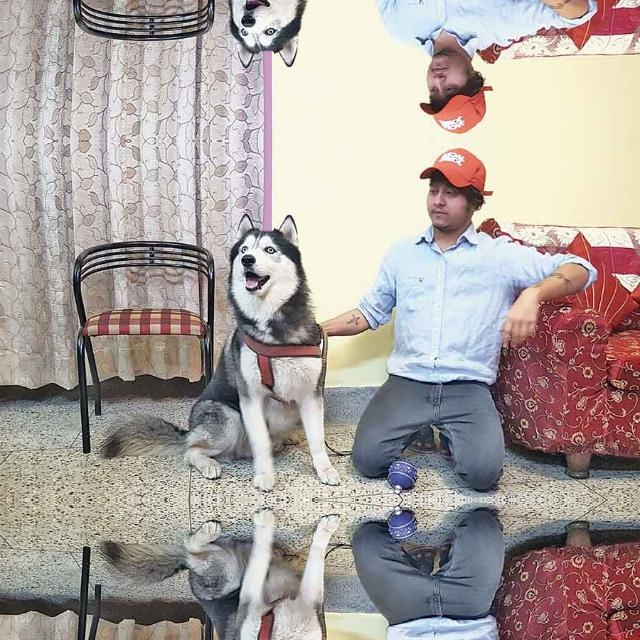dog: (178, 206, 332, 488), (179, 512, 332, 640), (179, 0, 332, 74)
person: (344, 143, 572, 482), (344, 0, 572, 136), (344, 517, 572, 640)
